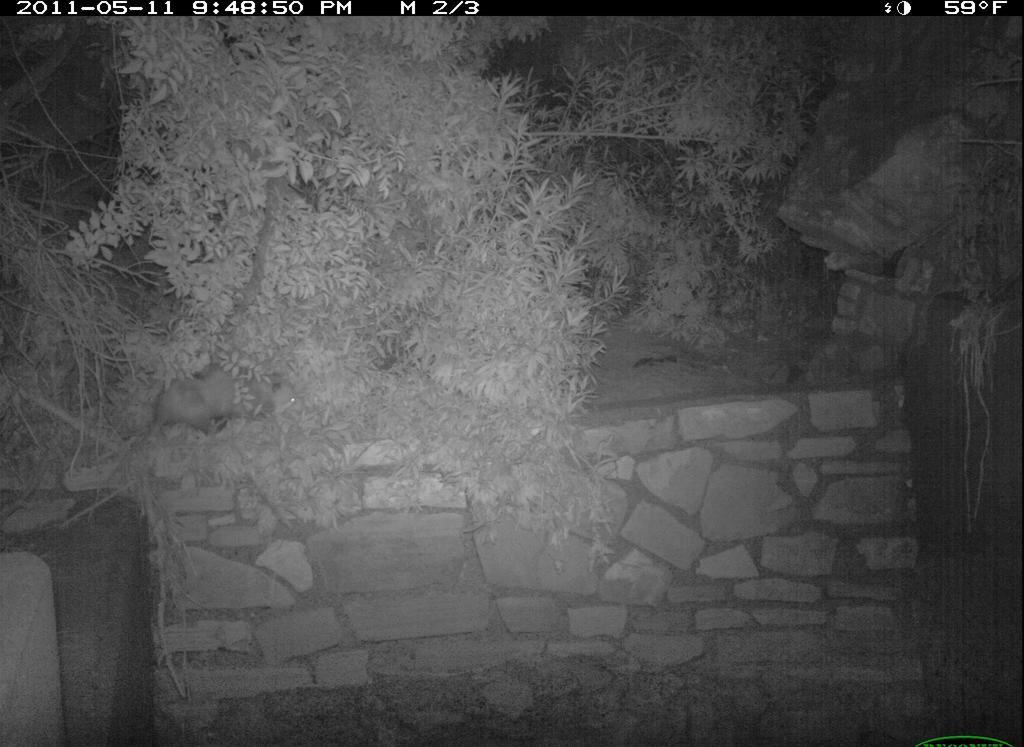opossum: (120, 349, 314, 445)
